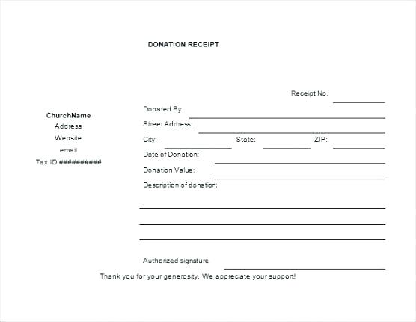textline: (136, 194, 389, 213), (136, 227, 391, 244), (135, 212, 390, 227), (187, 104, 388, 120), (221, 254, 388, 273), (195, 120, 386, 136), (212, 167, 389, 182), (212, 152, 388, 166), (331, 85, 388, 107), (162, 135, 233, 152), (330, 136, 388, 153), (260, 137, 313, 153)
